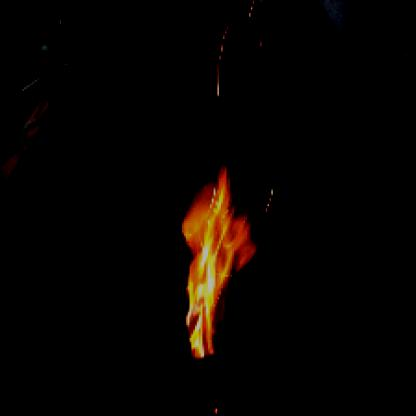Fire: (173, 160, 258, 358)
